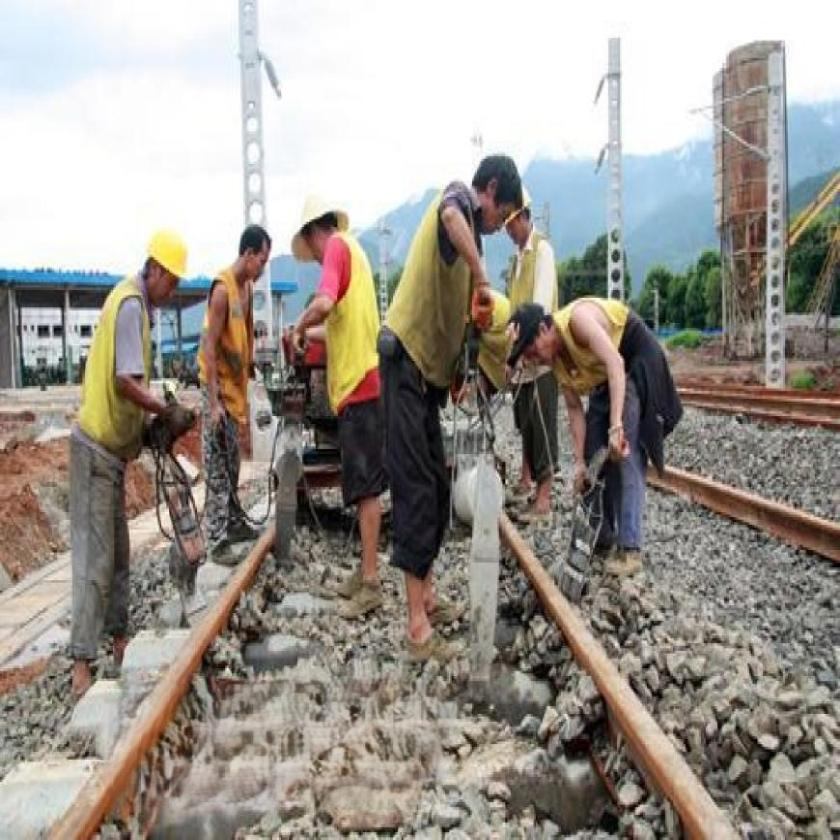Con_casco: (128, 218, 185, 317)
Sin_casco: (290, 182, 359, 271), (474, 140, 522, 246), (513, 292, 554, 369), (234, 210, 270, 288)
